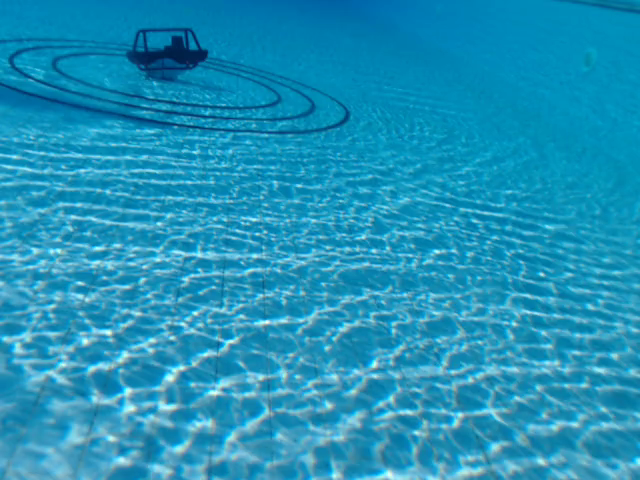submarine: (124, 27, 210, 81)
